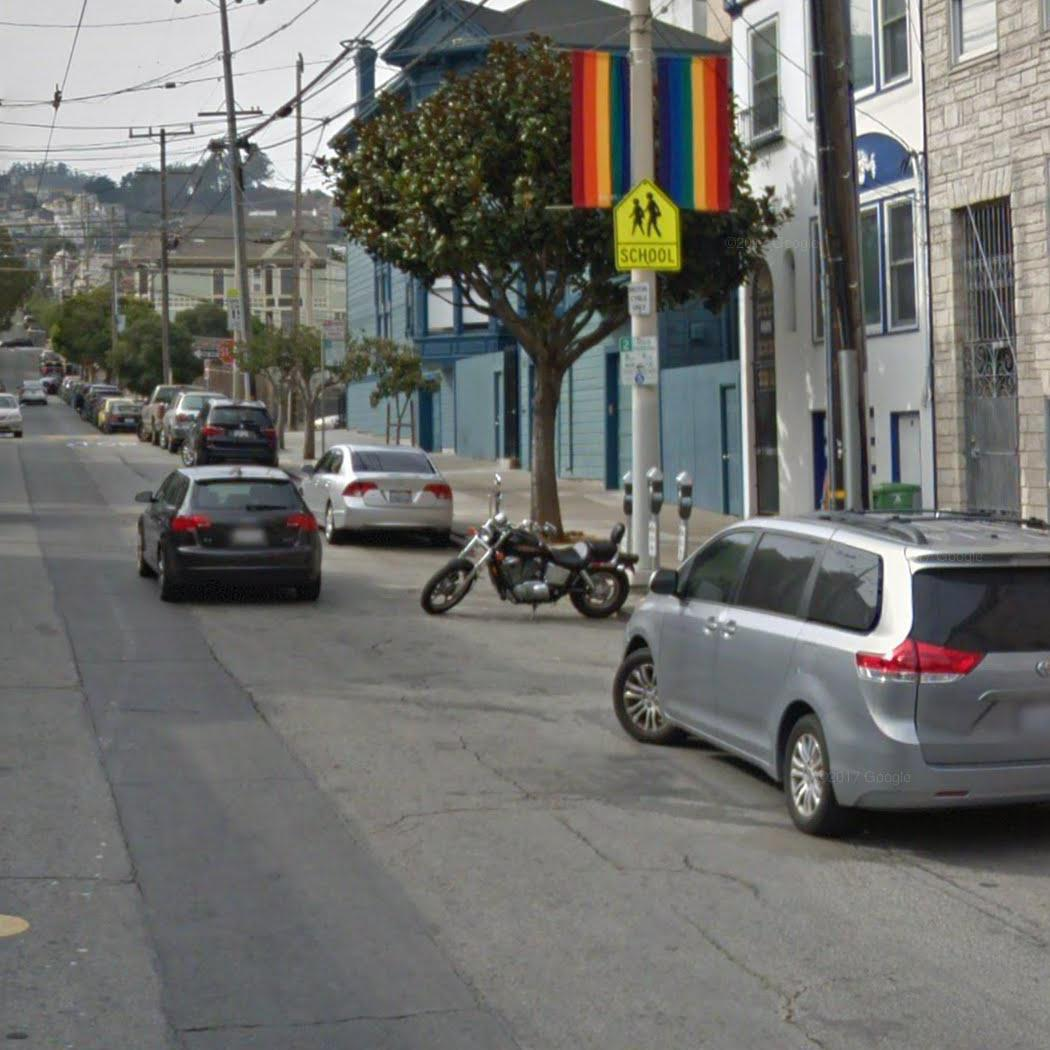2 Hour Parking: (324, 343, 349, 368)
No Parking: (321, 319, 347, 343)
